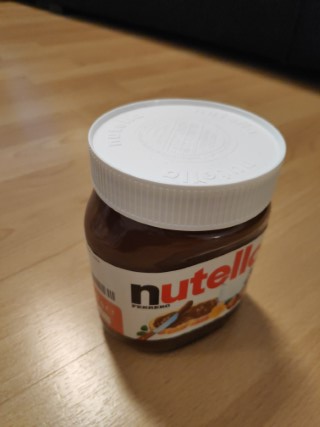nutella: (80, 96, 289, 356)
